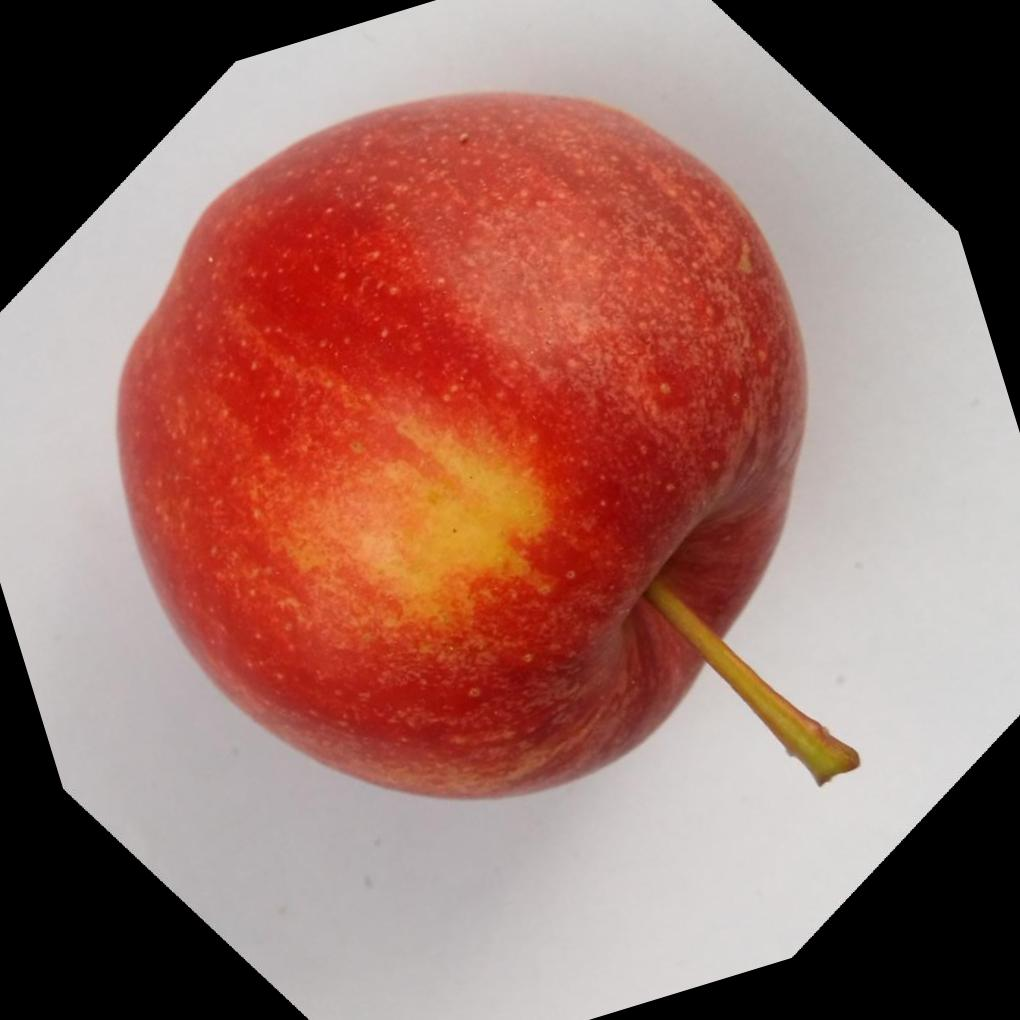FreshGuava: (107, 88, 807, 803)
